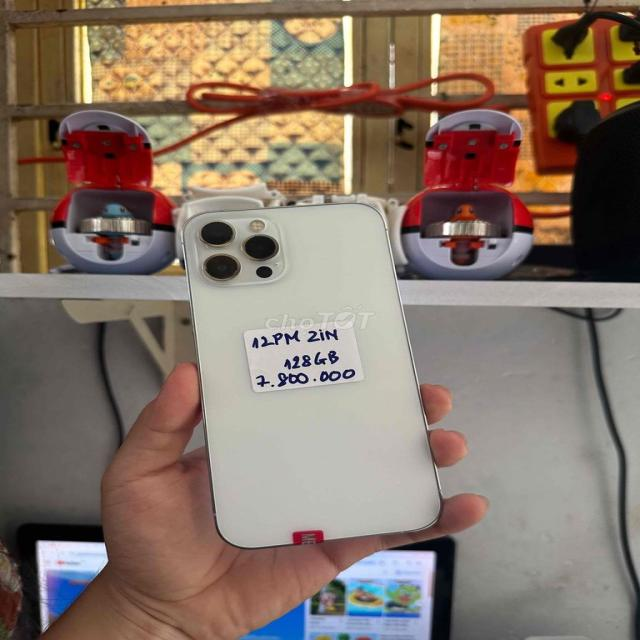gen_12_13: (172, 196, 444, 548)
